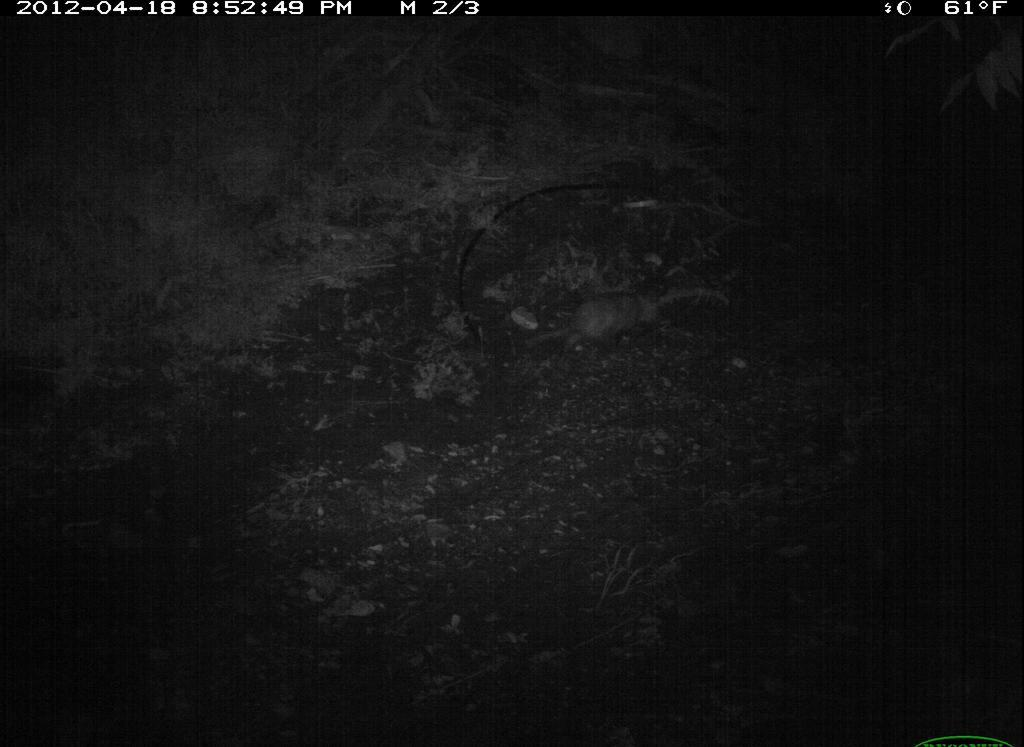opossum: (536, 276, 671, 377)
